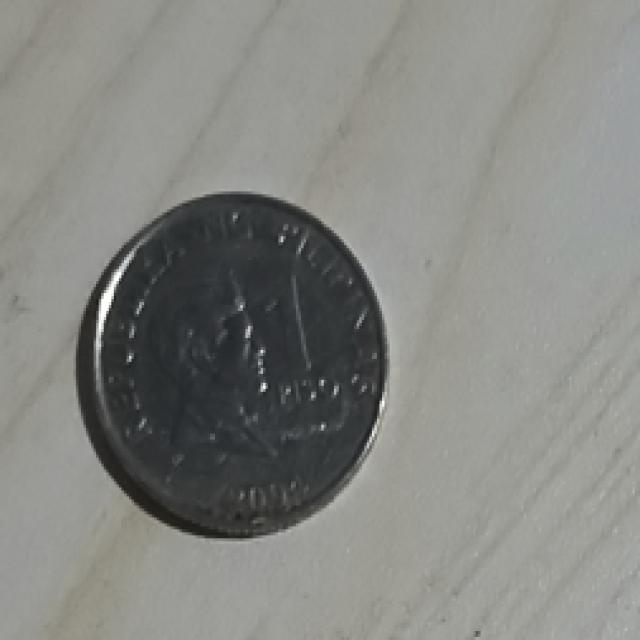1_peso: (78, 194, 387, 535)
